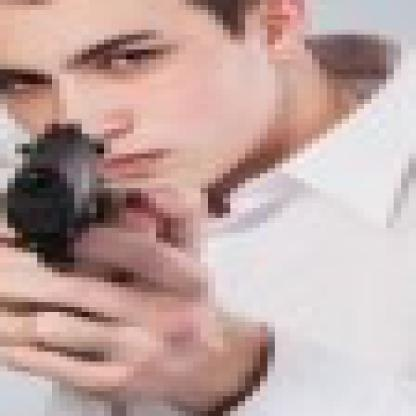gun: (0, 104, 134, 287)
